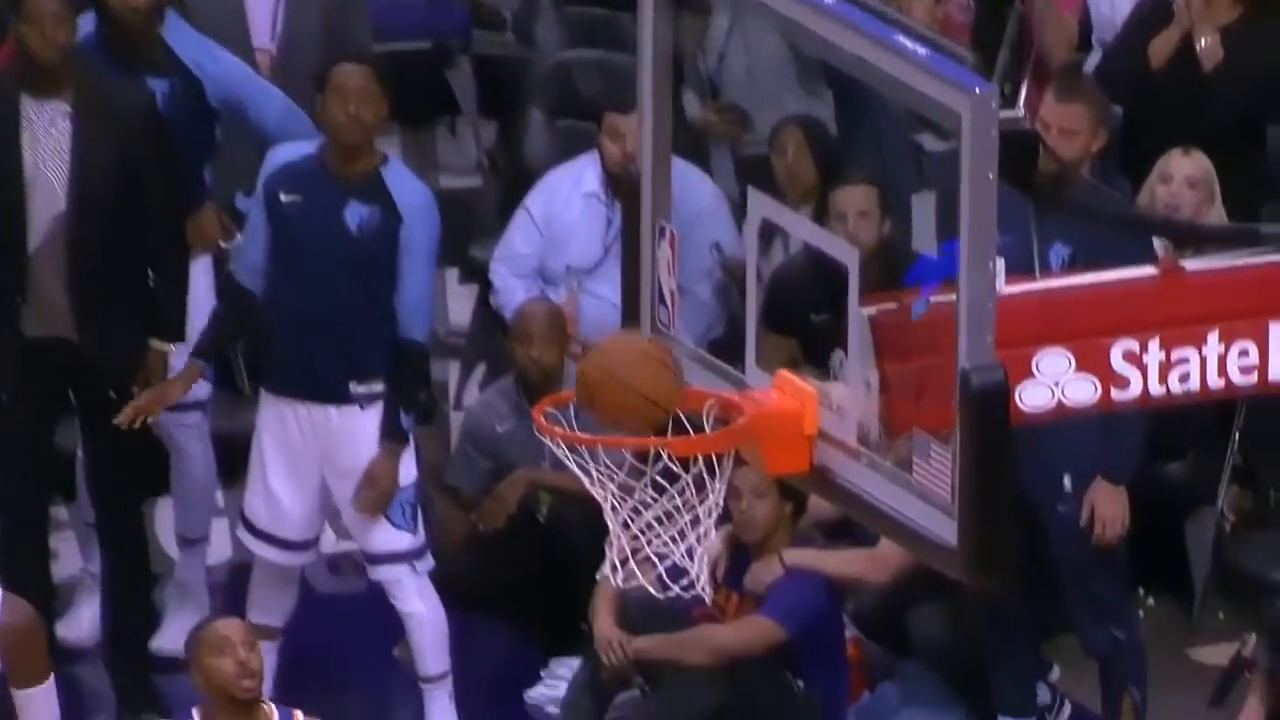ball: (573, 336, 692, 430)
